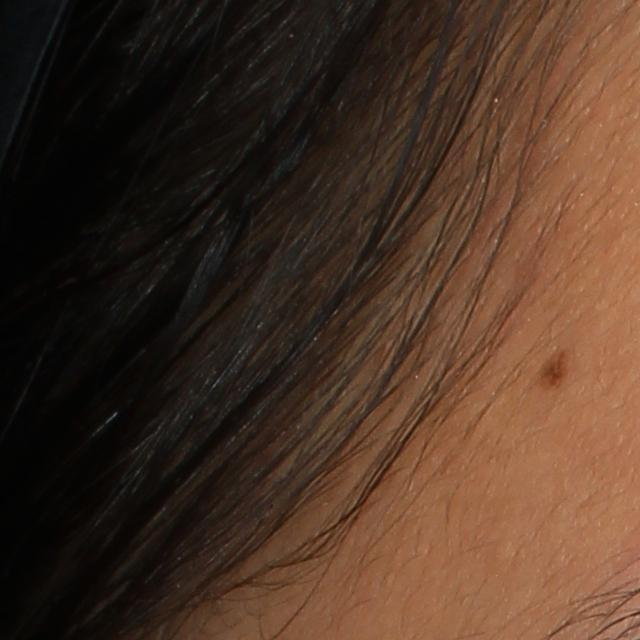nevus: (529, 347, 569, 392)
